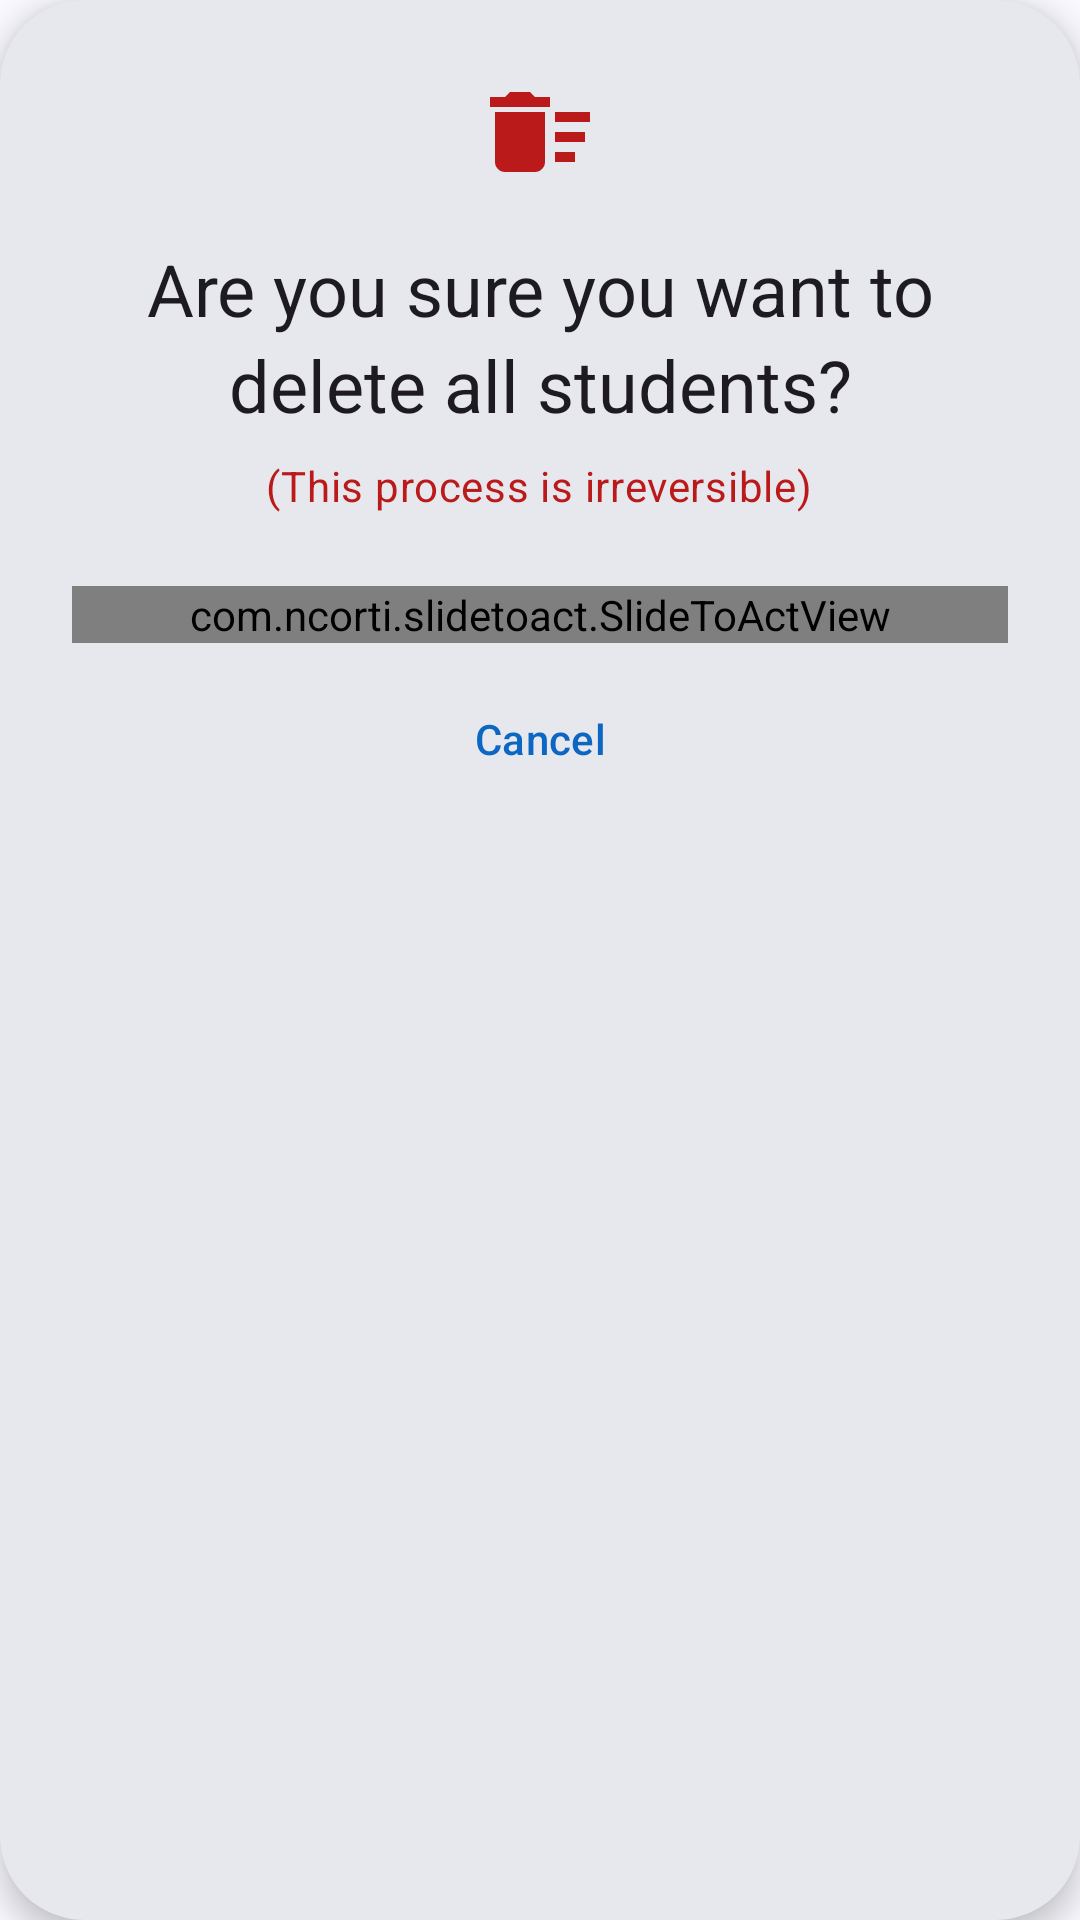

Where icons sit on this 1080 x 1920 app screen, as region(x1, y1, x2, y2):
delete sweep: region(490, 92, 590, 172)
